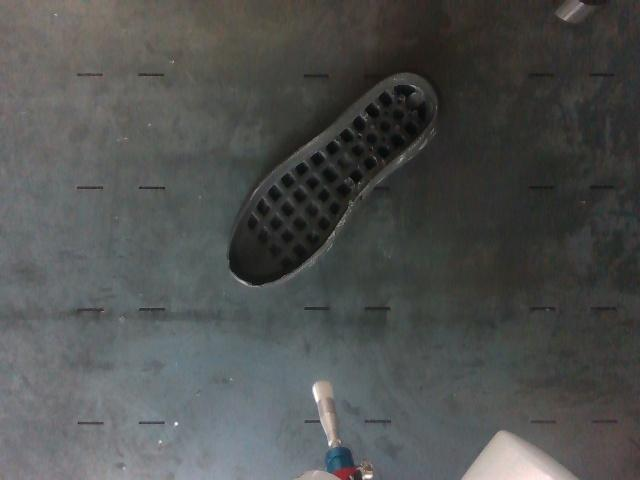shoes: (229, 74, 436, 285)
